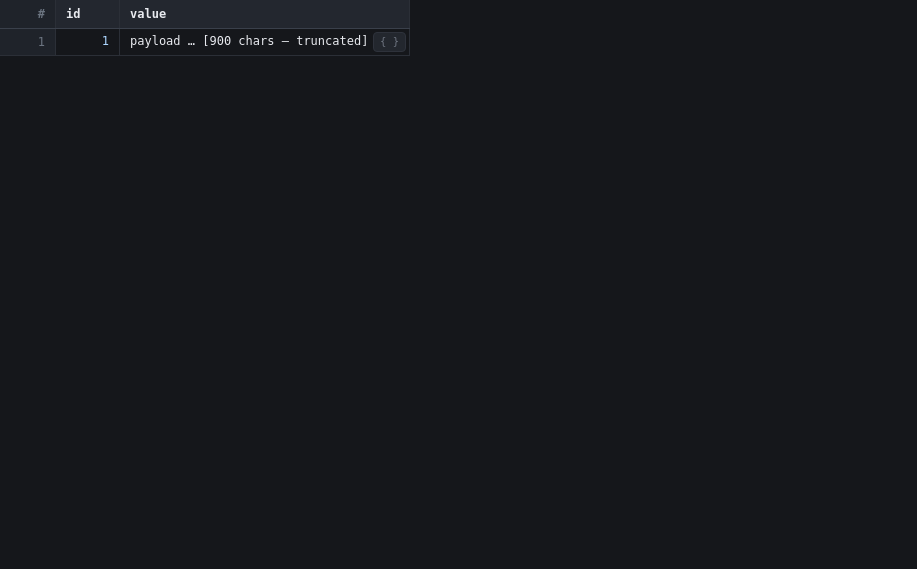
DataGrid DOM behavior › invalidates an in-flight full-value request when the viewer closes
This screenshot has width=917, height=569.
Click the button titled "View formatted". click: {"x": 390, "y": 42}
box: x1=373 y1=32 x2=406 y2=52
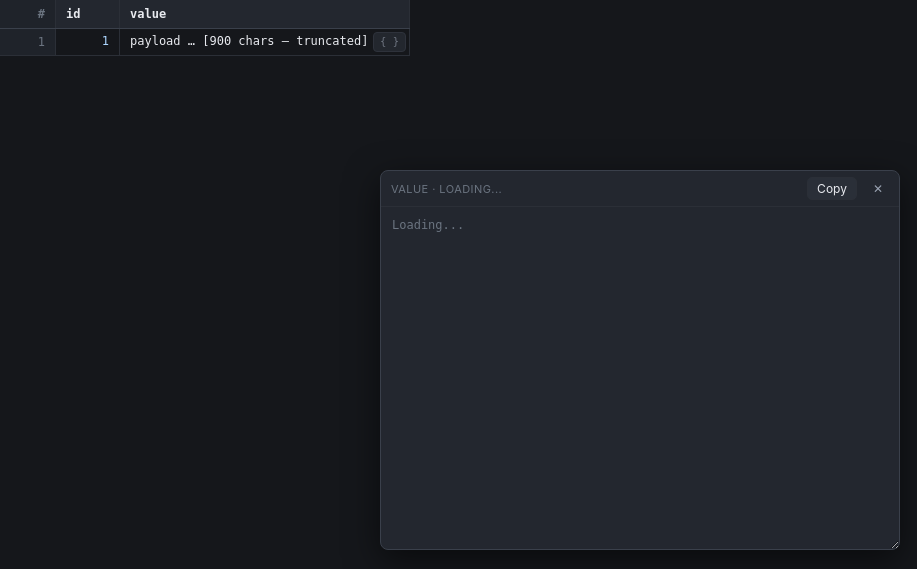
Click the button named "Close". click: {"x": 878, "y": 188}
box: x1=865 y1=177 x2=891 y2=200
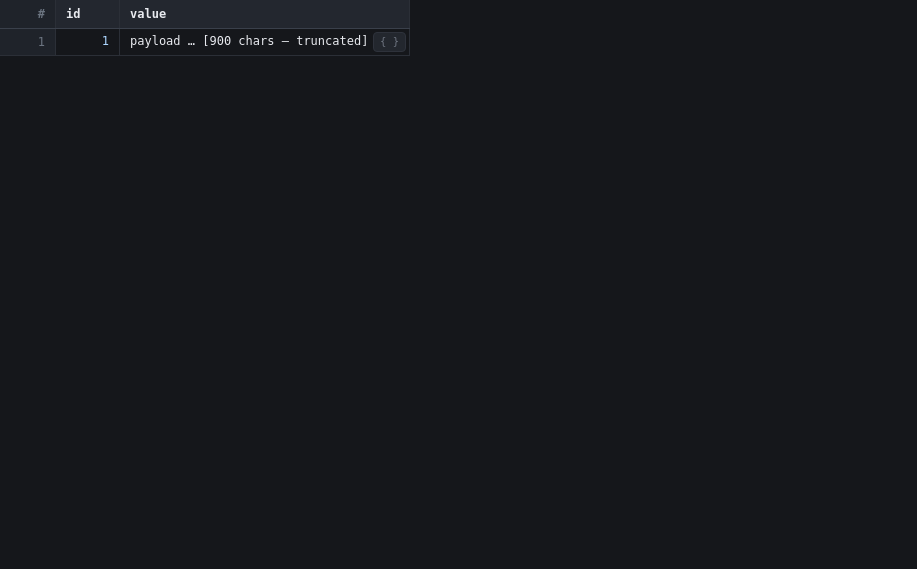
Result: the element with test id "structured-value-viewer" is gone
